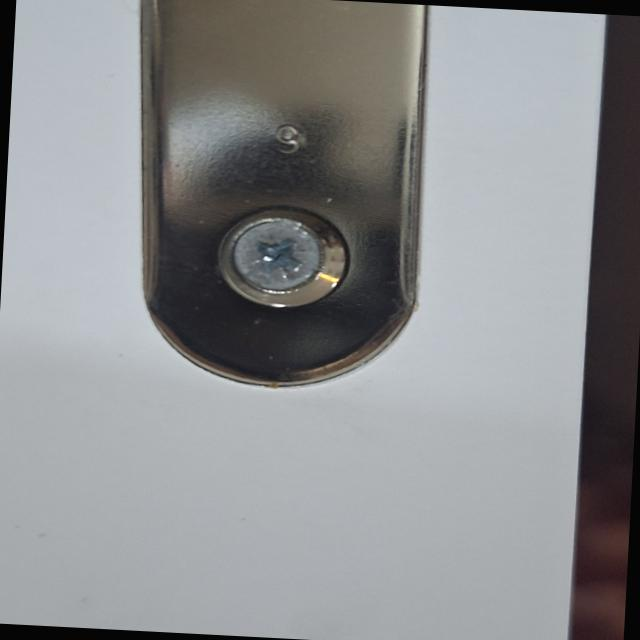Pozidriv: (210, 204, 345, 312)
